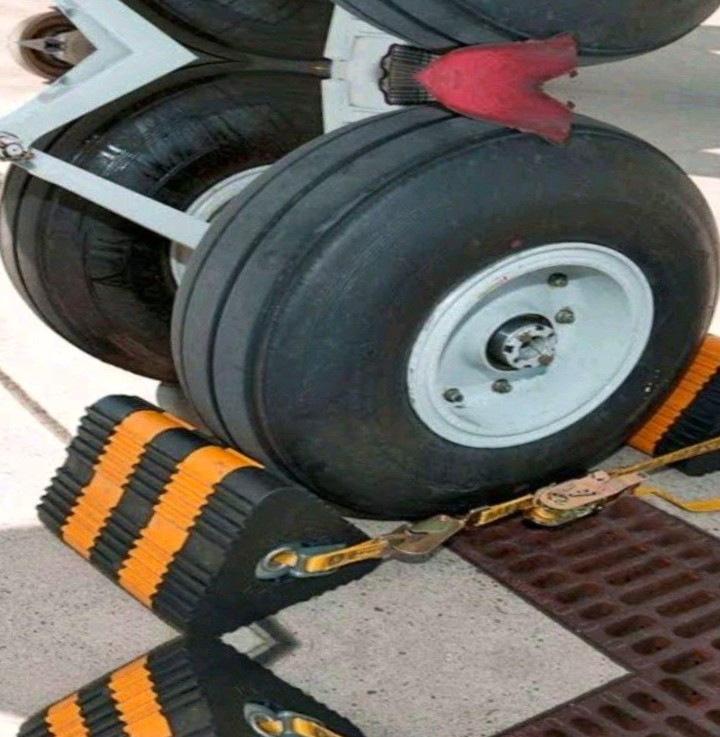chock: (24, 388, 398, 652), (4, 622, 379, 737), (584, 321, 720, 487)
wheel: (169, 78, 720, 538), (0, 47, 325, 386)
